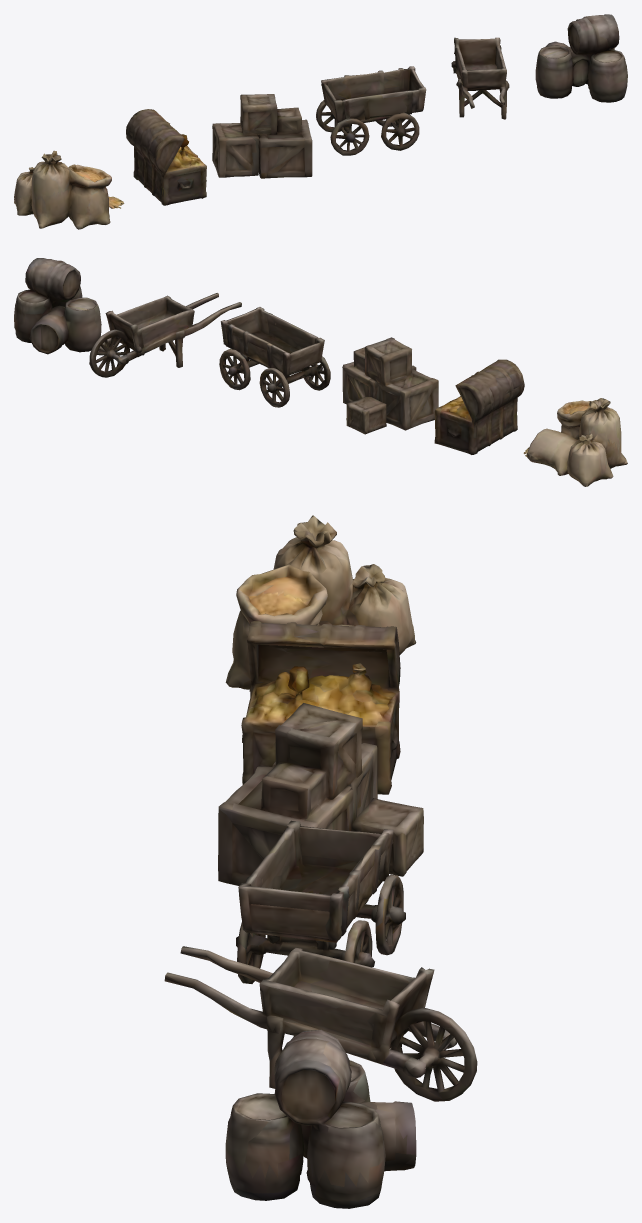
The model's file is props_town.glb.
3 views of the same model, one above another, from view 1: azimuth 30°, elevation 25°; view 2: azimuth 150°, elevation 25°; view 3: azimuth 270°, elevation 25° (orthographic). The views are drawn at different scales.
Parts seen in each view (by area): view 1: crates, wagon, barrels, sacks, chest, handcart; view 2: wagon, crates, barrels, sacks, chest, handcart; view 3: barrels, handcart, crates, wagon, chest, sacks.
Part boxes in pixels (x1,y1,x2,y2): crates: [212, 94, 312, 178]; wagon: [316, 66, 426, 155]; barrels: [535, 14, 627, 102]; sacks: [14, 150, 124, 229]; chest: [126, 109, 206, 205]; handcart: [451, 37, 509, 119]; wagon: [219, 307, 330, 407]; crates: [342, 337, 438, 434]; barrels: [14, 258, 101, 354]; sacks: [523, 398, 627, 486]; chest: [434, 359, 524, 454]; handcart: [89, 293, 241, 377]; barrels: [225, 1029, 416, 1208]; handcart: [164, 946, 477, 1101]; crates: [218, 703, 423, 885]; wagon: [236, 820, 405, 983]; chest: [241, 621, 400, 794]; sacks: [225, 515, 416, 689].
Size of the model in its own units: 1.98 by 0.2255 by 0.4512.
Materials: 1 (1 with a texture image).
